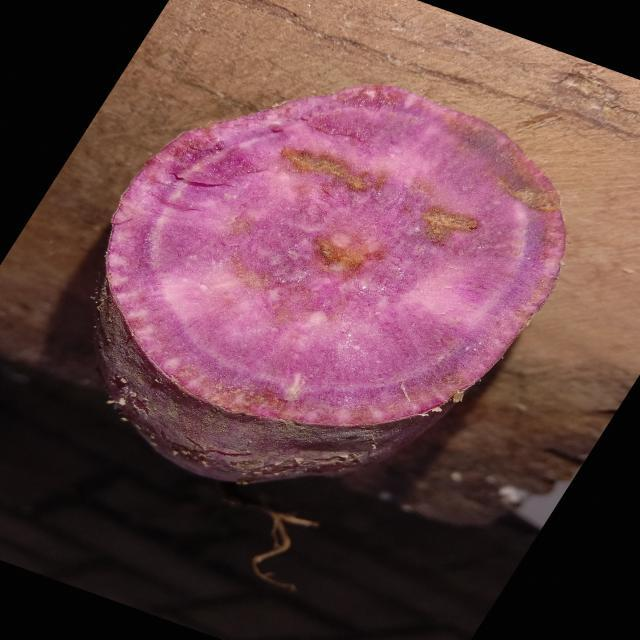Sick Sweet Potato_Tuber Rot: (107, 85, 565, 425)
